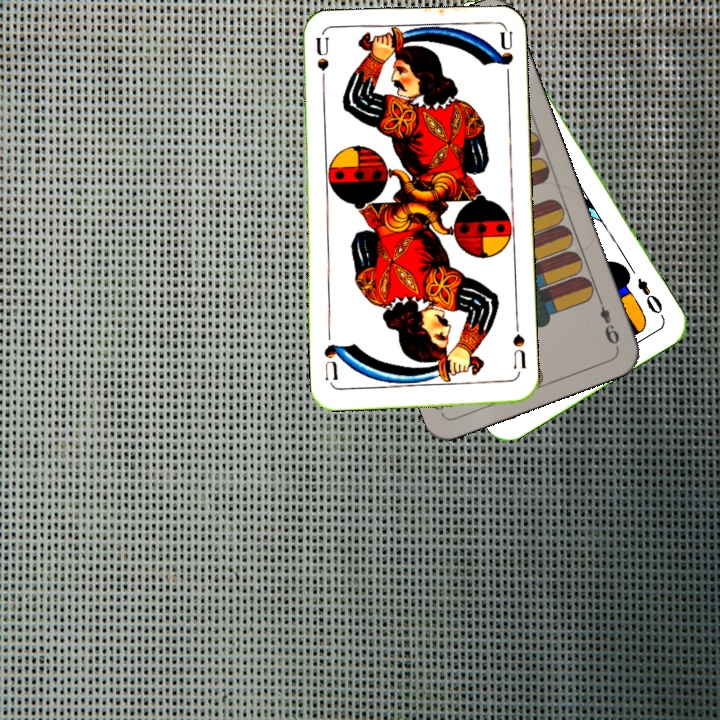E9: (594, 293, 622, 350)
EO: (633, 274, 667, 321)
SU: (312, 35, 332, 94), (509, 319, 529, 372)
